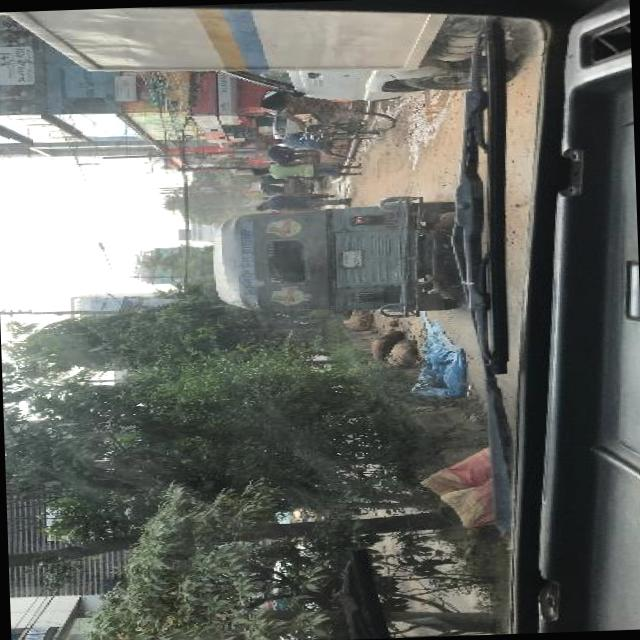motorcycle: (208, 192, 462, 323), (258, 172, 317, 196)
truck: (7, 0, 518, 114)
